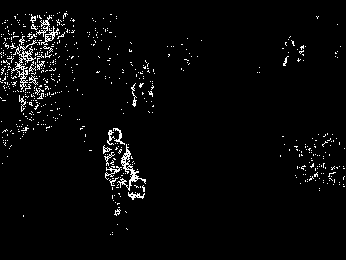person: (103, 128, 146, 216)
